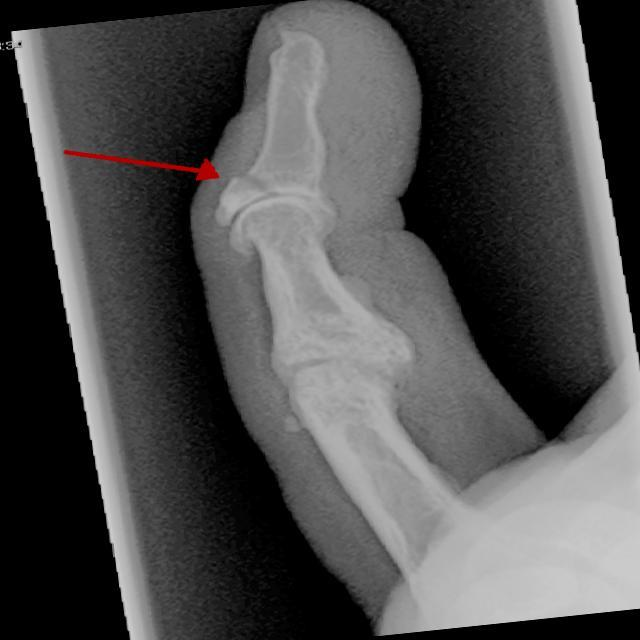Avlusion Fracture: (199, 156, 267, 218)
